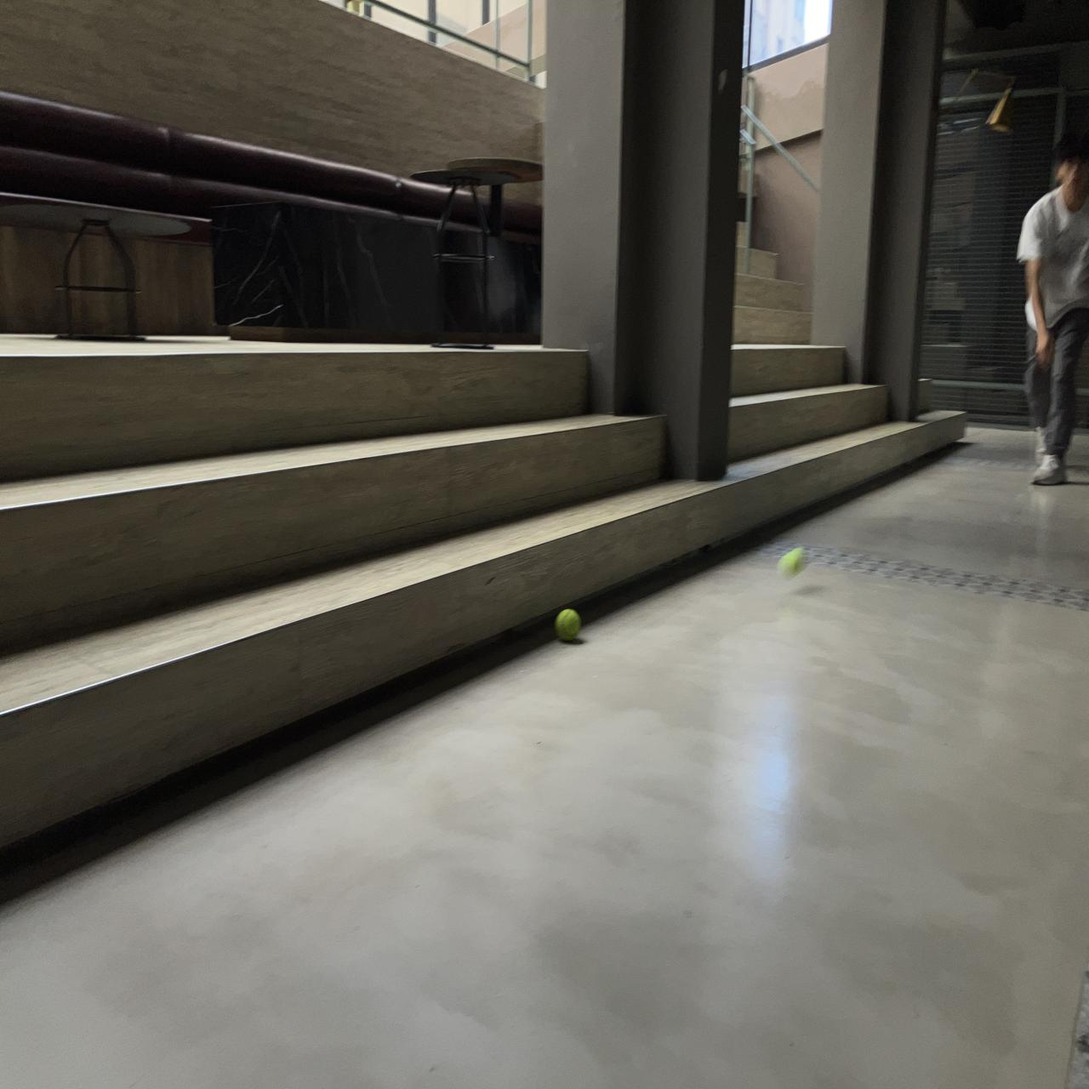person: (1018, 135, 1088, 484)
tennisball: (778, 547, 807, 578), (556, 609, 581, 641)
